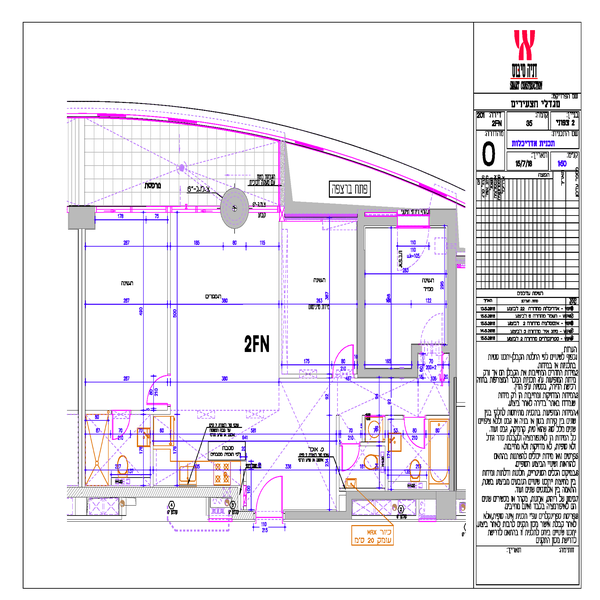door: (397, 211, 431, 274), (416, 307, 451, 357), (256, 475, 285, 519), (103, 408, 137, 442), (333, 341, 357, 387), (144, 373, 176, 407), (400, 413, 425, 450), (341, 437, 363, 475)
room: (351, 197, 462, 386), (340, 373, 469, 507)
wall: (446, 223, 457, 491), (67, 485, 238, 498), (347, 491, 462, 506), (358, 224, 367, 380), (433, 492, 462, 521), (285, 511, 355, 522), (66, 207, 95, 229), (360, 214, 397, 231), (428, 206, 458, 225), (364, 369, 414, 380)
window: (283, 212, 357, 225)
